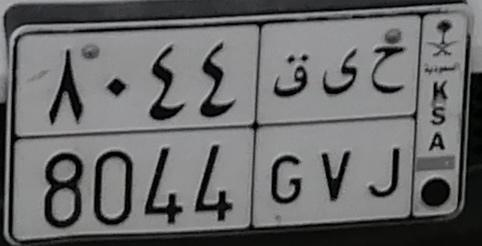0: (92, 75, 133, 226)
4: (193, 41, 237, 221), (143, 43, 186, 226)
8: (42, 46, 86, 231)
G: (270, 52, 310, 206)
J: (366, 44, 407, 199)
V: (321, 47, 359, 205)
